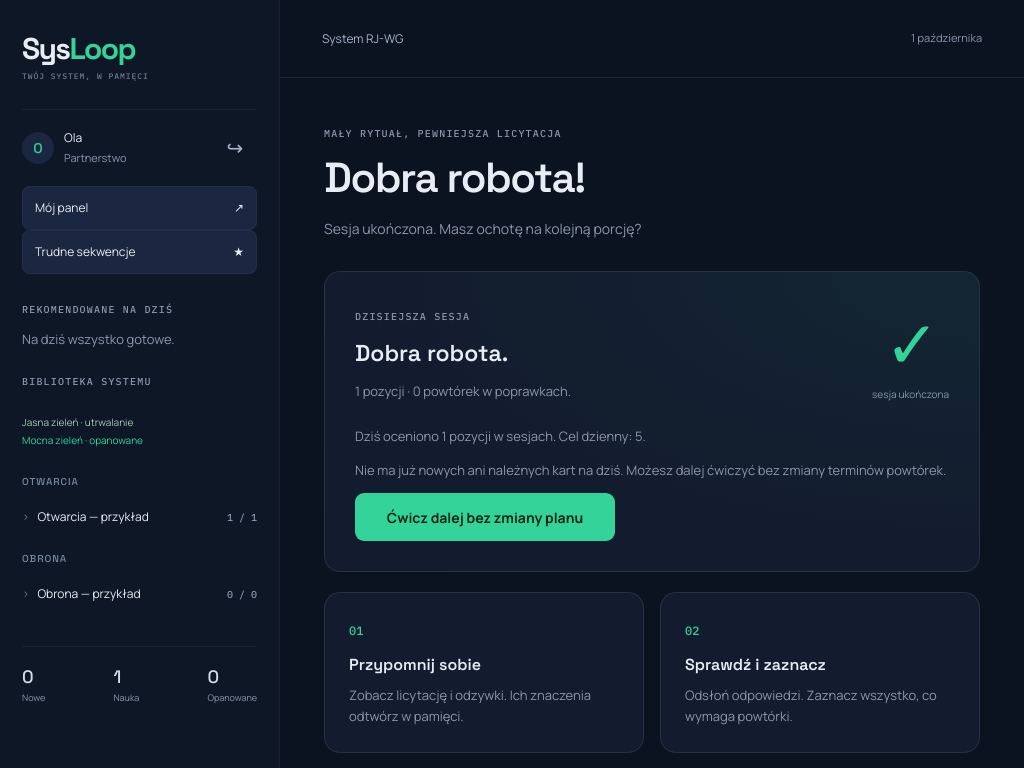
ćwiczenie po wyczerpaniu puli zapisuje ocenę bez zmiany SRS i ukończonej sesji
Click the button "Ćwicz dalej bez zmiany planu" at (485, 517), box x1=355 y1=493 x2=615 y2=541
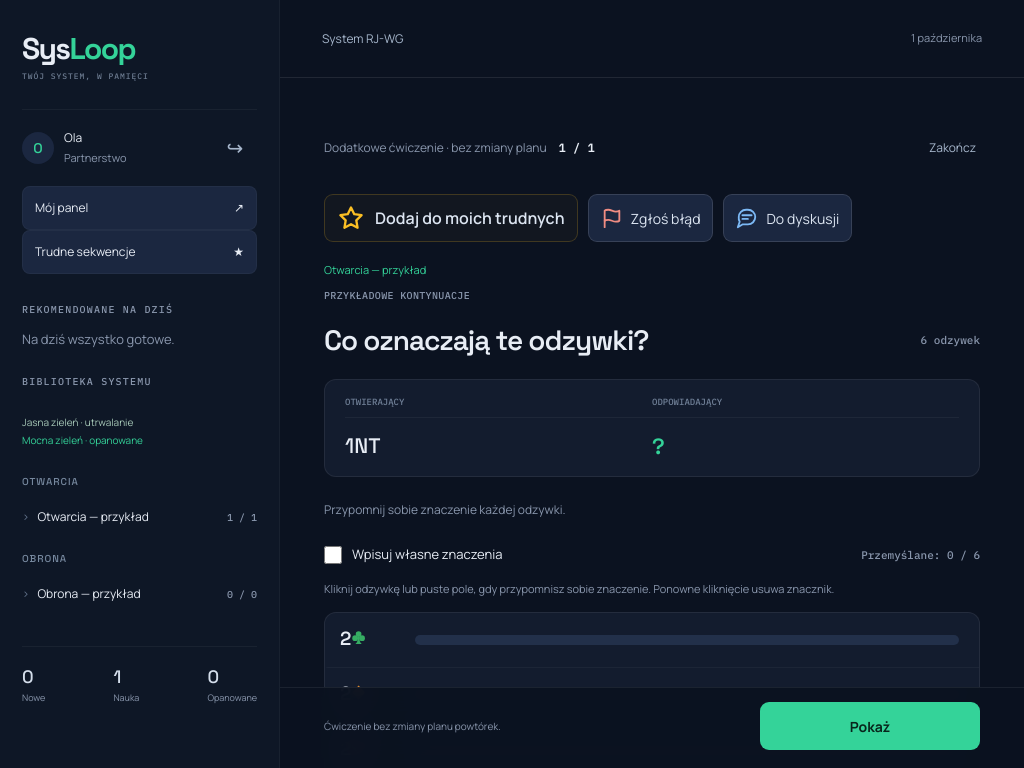
Click the button "Pokaż" at (870, 726), box x1=760 y1=702 x2=980 y2=750
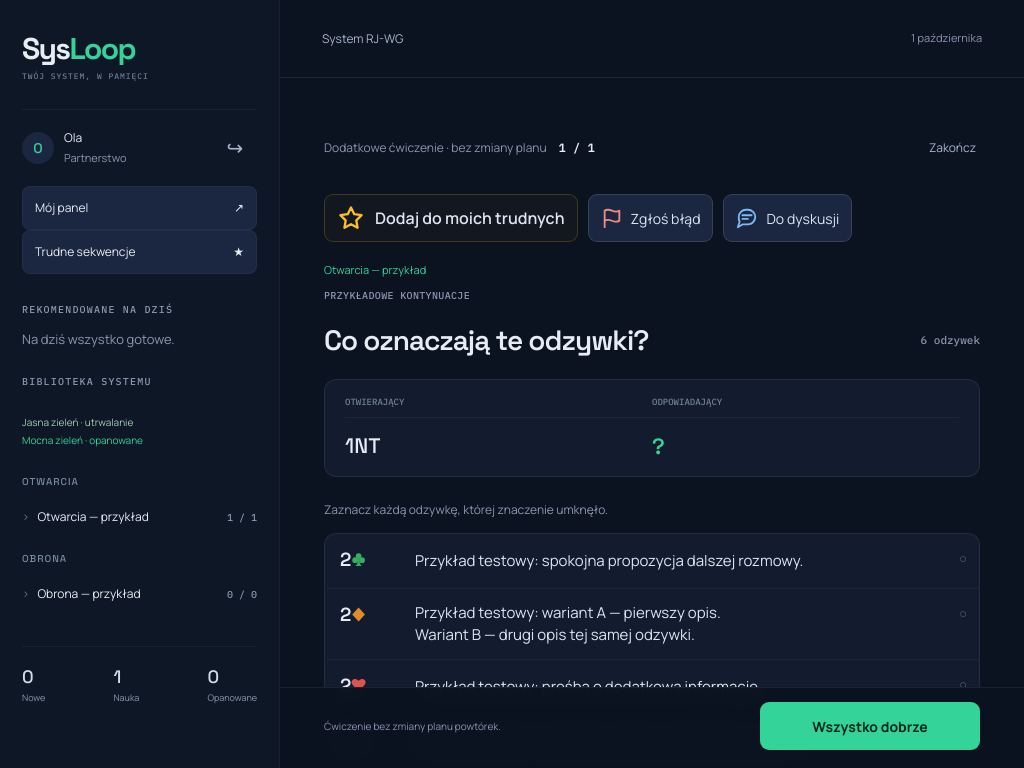
Click the button "Wszystko dobrze" at (870, 726), box x1=760 y1=702 x2=980 y2=750
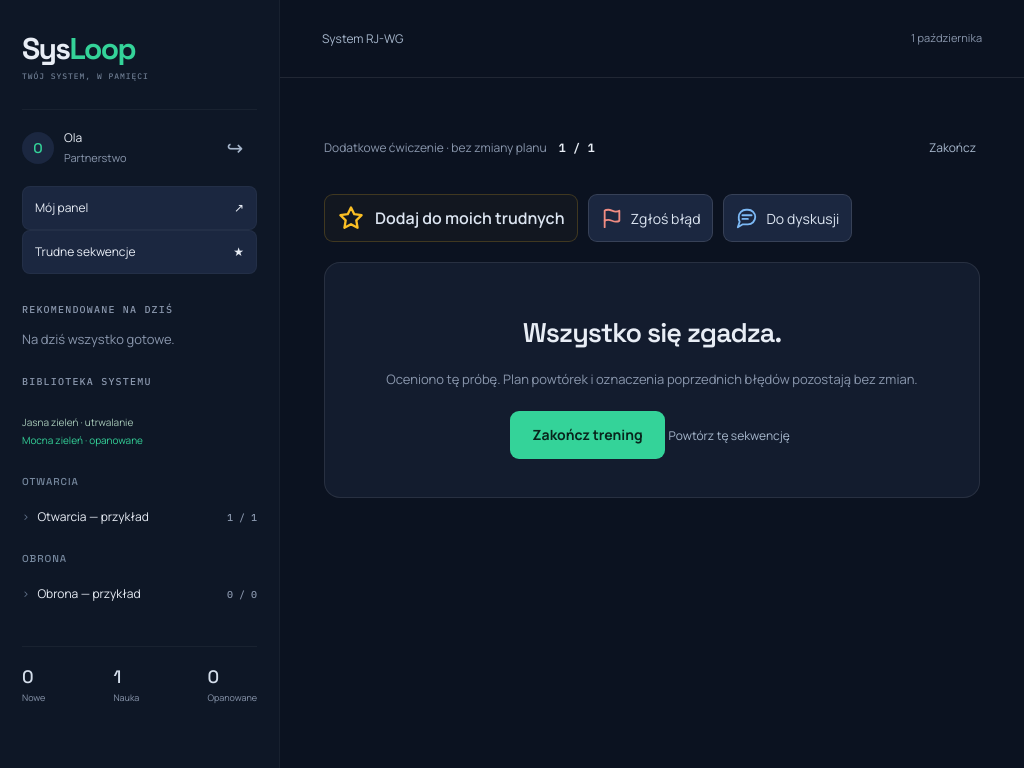
Expected: the heading "Wszystko się zgadza." is shown, x1=523 y1=315 x2=781 y2=350
Click the button "Zakończ trening" at (587, 435), box x1=510 y1=411 x2=665 y2=459
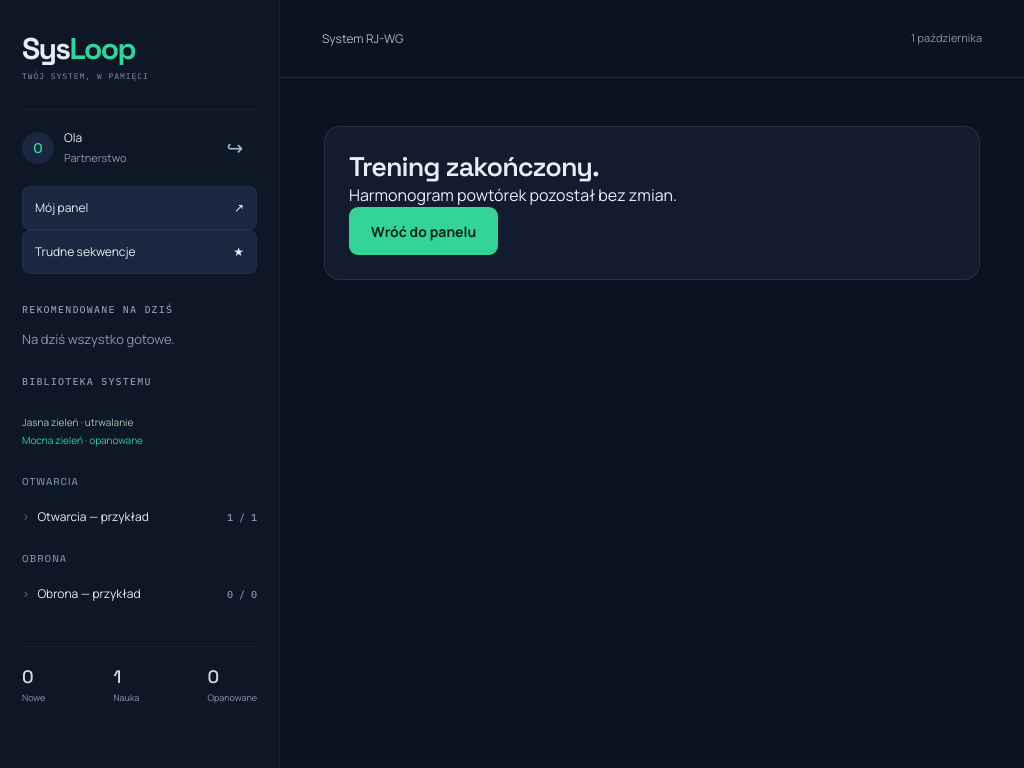
Click the button "Wróć do panelu" at (424, 231), box x1=349 y1=207 x2=498 y2=255
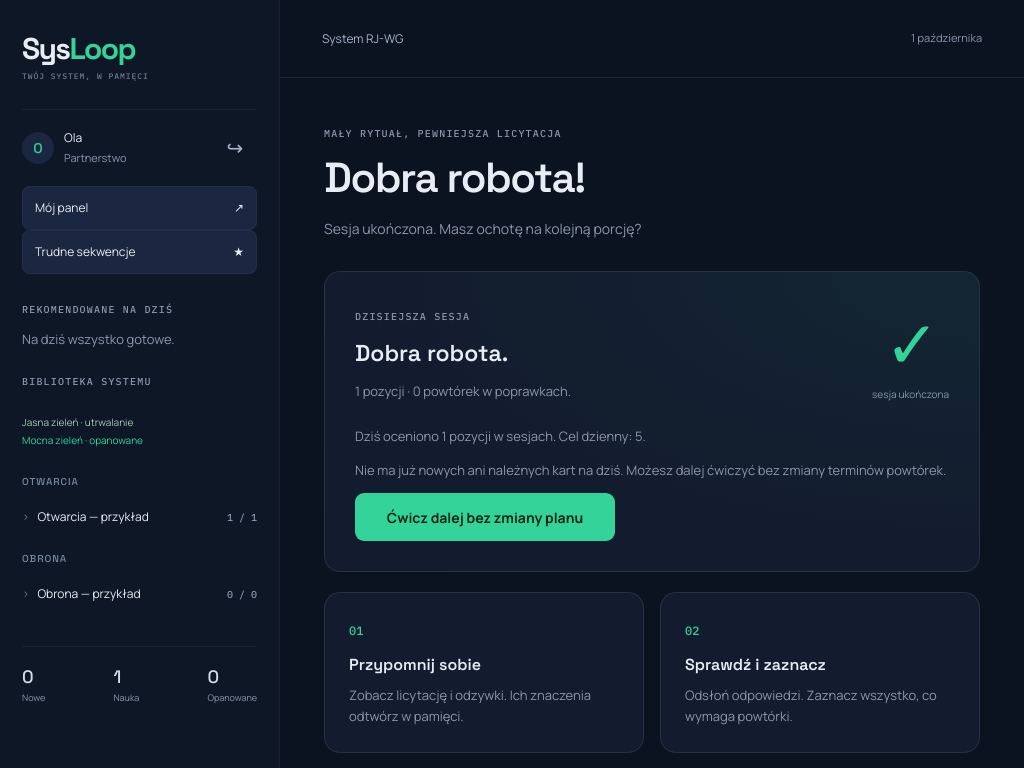
Expected: the button "Ćwicz dalej bez zmiany planu" is shown, x1=355 y1=493 x2=615 y2=541
